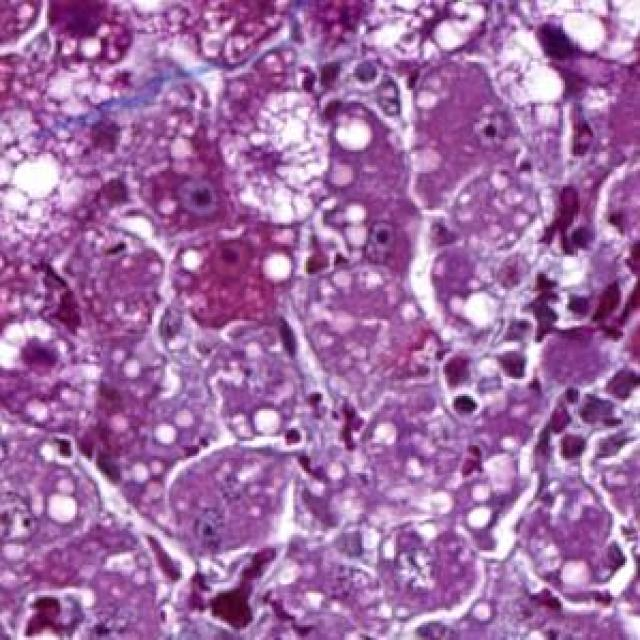ballooning: (13, 103, 113, 270), (227, 90, 332, 233), (4, 319, 82, 377)
